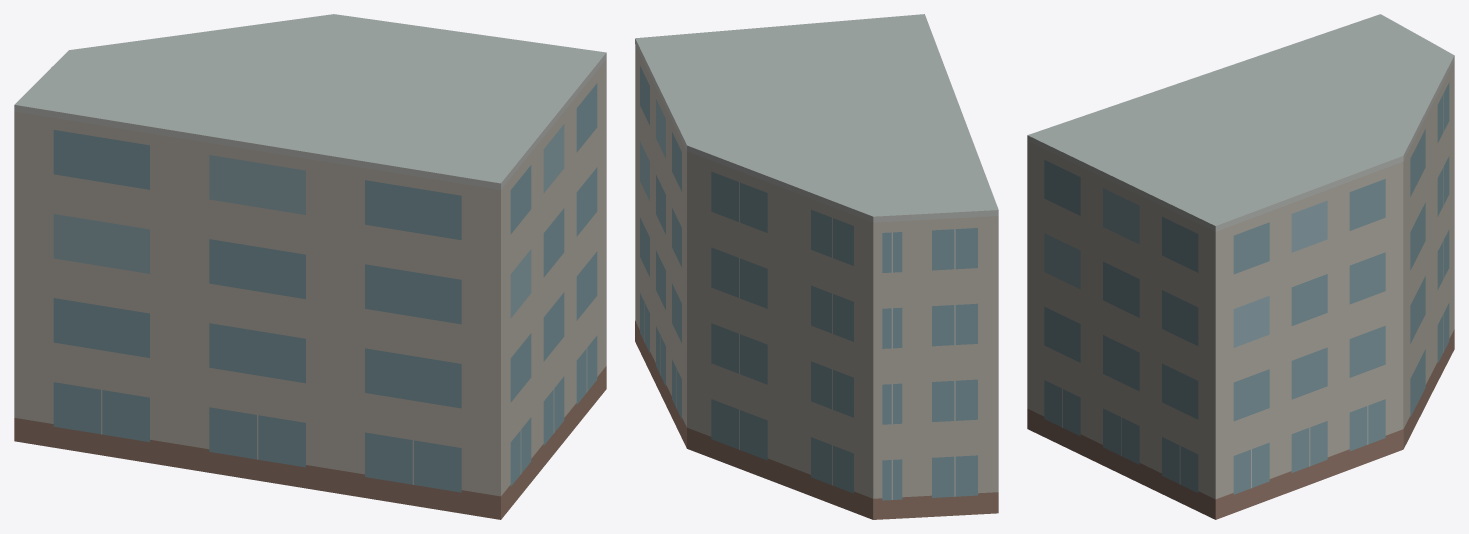
Rendered from survey-upis-32910057.glb.
3 views of the same model, side by side, from view 1: azimuth 30°, elevation 25°; view 2: azimuth 150°, elevation 25°; view 3: azimuth 270°, elevation 25° (orthographic). The views are drawn at different scales.
Visible parts, largest first — view 1: survey-upis-32910057.tmp; view 2: survey-upis-32910057.tmp; view 3: survey-upis-32910057.tmp.
Part boxes in pixels (bbox=[...]): survey-upis-32910057.tmp: bbox=[14, 14, 606, 519]; survey-upis-32910057.tmp: bbox=[635, 14, 998, 519]; survey-upis-32910057.tmp: bbox=[1027, 14, 1454, 519].
Size of the model in its own units: 19.44 by 12.55 by 16.55.
